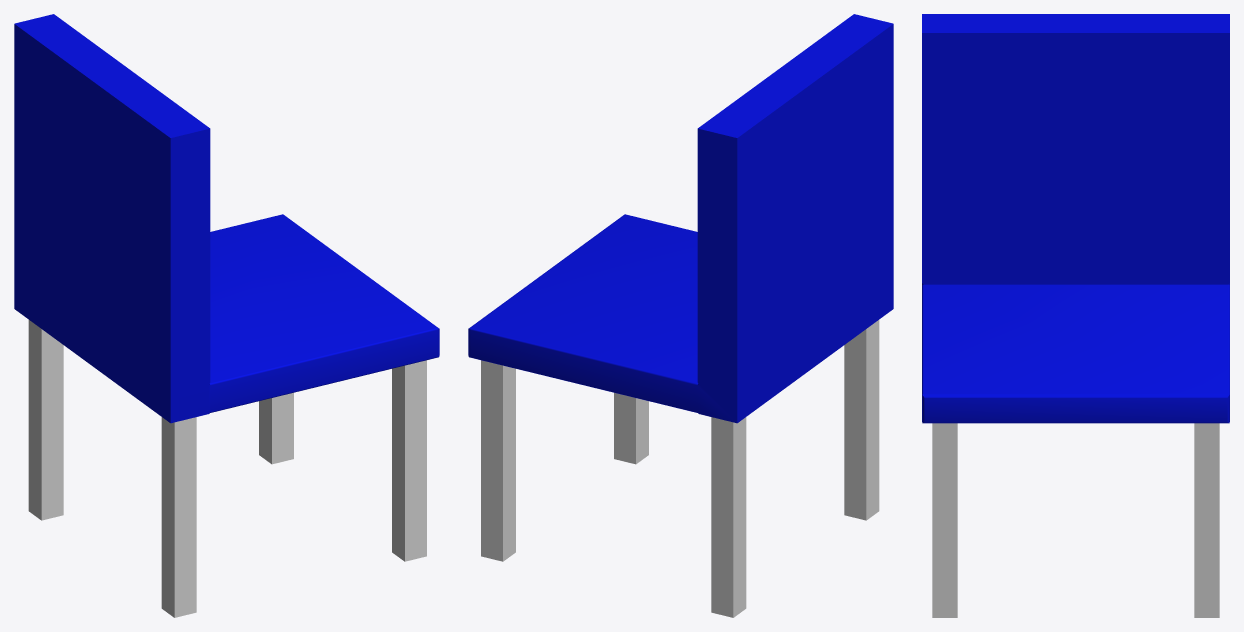
Rendered from Silla.fbx.
3 renders of one model, left to right at view 1: azimuth 30°, elevation 25°; view 2: azimuth 150°, elevation 25°; view 3: azimuth 270°, elevation 25°, orthographic.
Parts seen in each view (by area): view 1: silla, pata4, pata1, pata2, pata3; view 2: silla, pata2, pata3, pata4, pata1; view 3: silla, pata1, pata3.
Part boxes in pixels (x1,y1,x2,y2): silla: (14, 14, 439, 423); pata4: (161, 417, 196, 617); pata1: (392, 360, 426, 561); pata2: (28, 320, 63, 520); pata3: (259, 392, 293, 464); silla: (468, 14, 893, 423); pata2: (711, 417, 746, 617); pata3: (481, 360, 515, 561); pata4: (844, 320, 879, 520); pata1: (614, 392, 648, 464); silla: (922, 14, 1229, 423); pata1: (932, 423, 957, 617); pata3: (1194, 423, 1219, 617).
Bounding box in the file's own units: 200 × 343 × 200.
